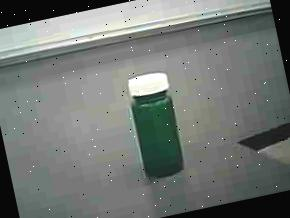Bottle C: (114, 58, 202, 194)
